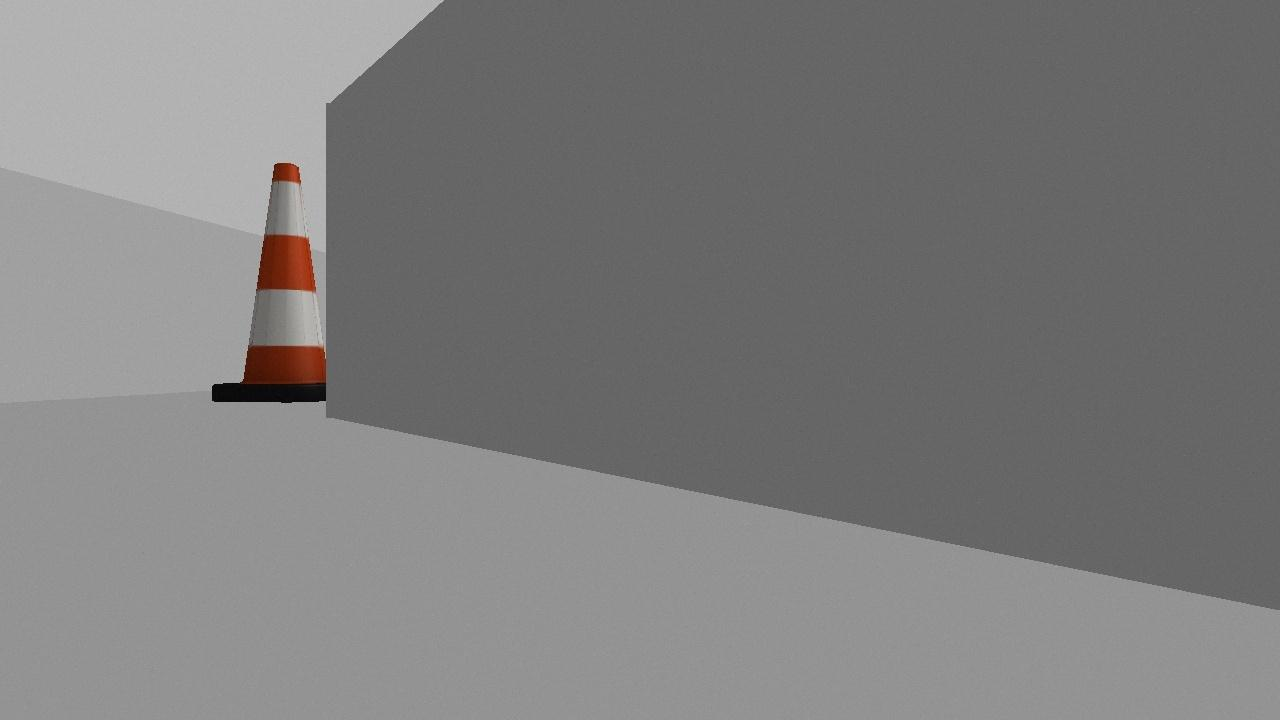cone_barrel: (211, 148, 352, 404)
